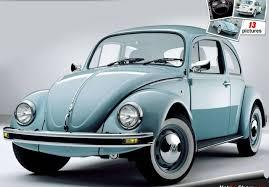volkswagen: (0, 24, 268, 186)
